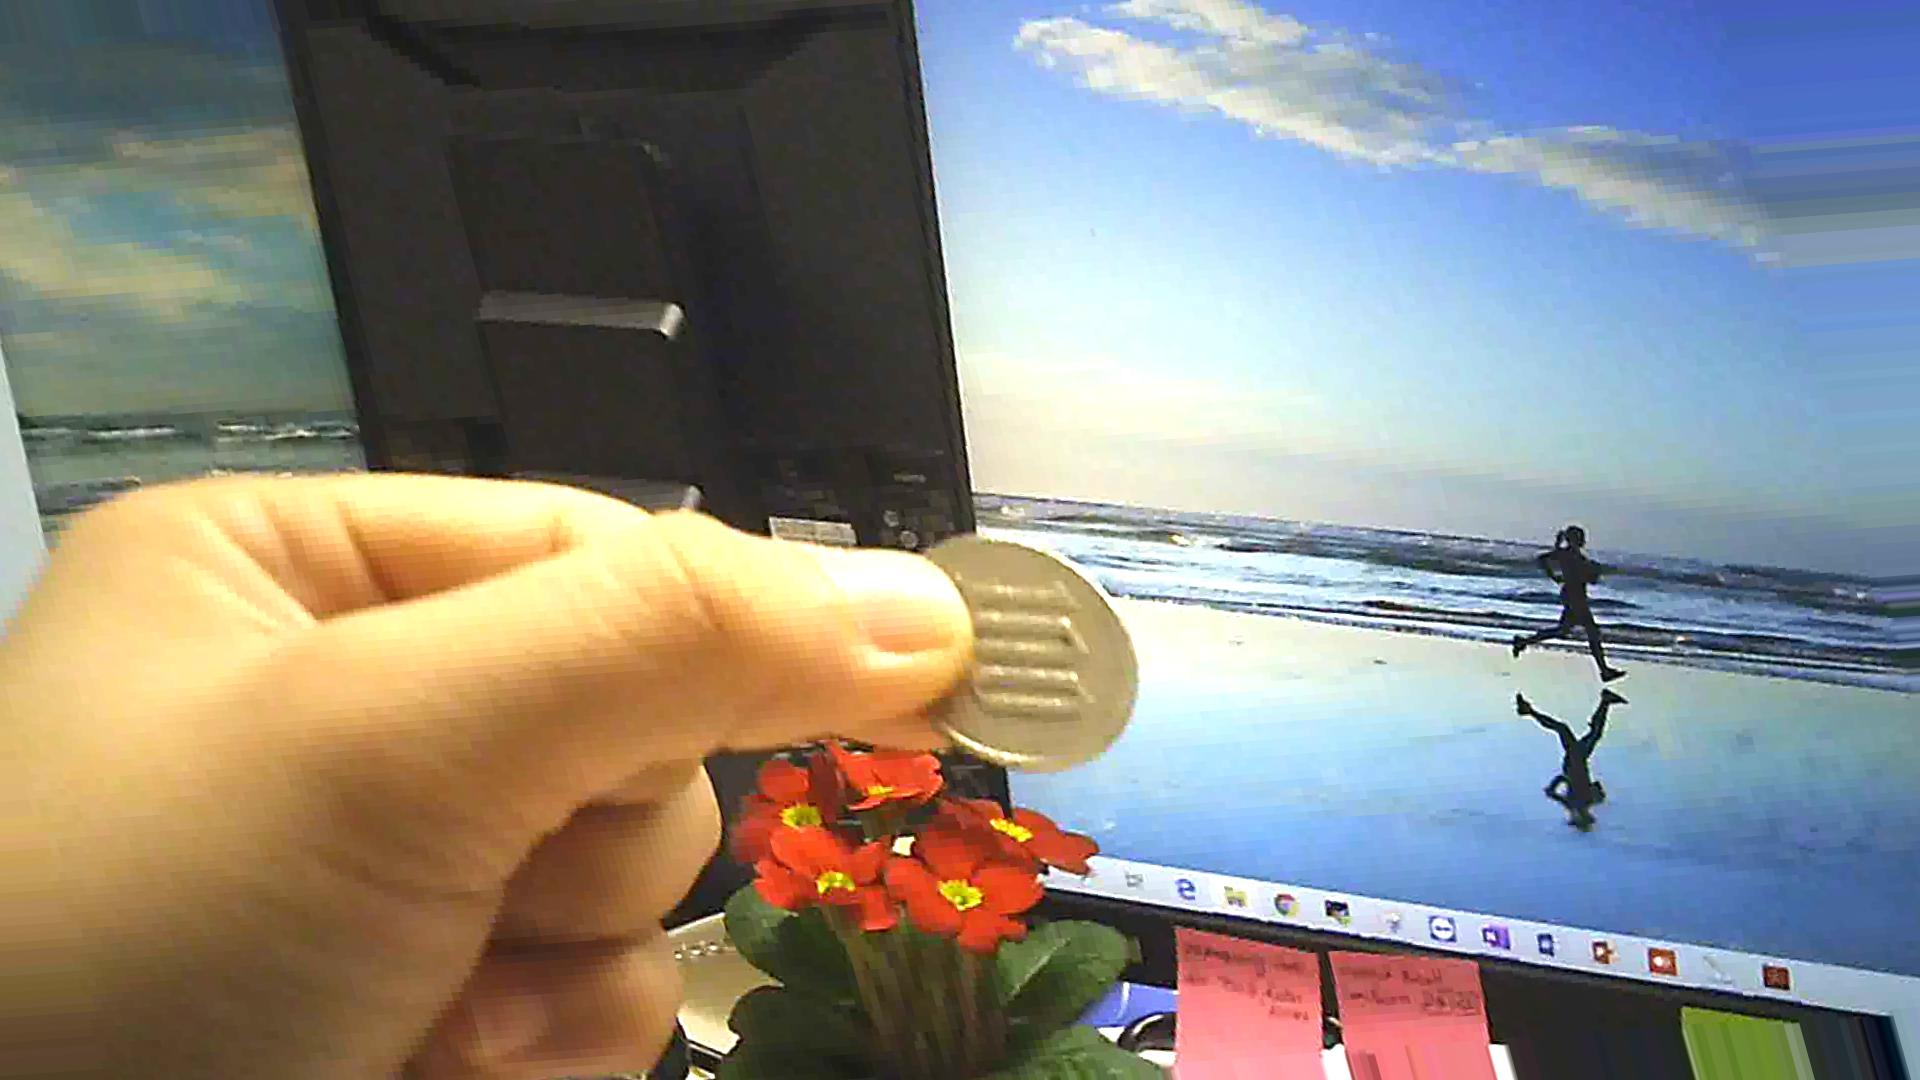100 Yen: (868, 527, 1154, 781)
